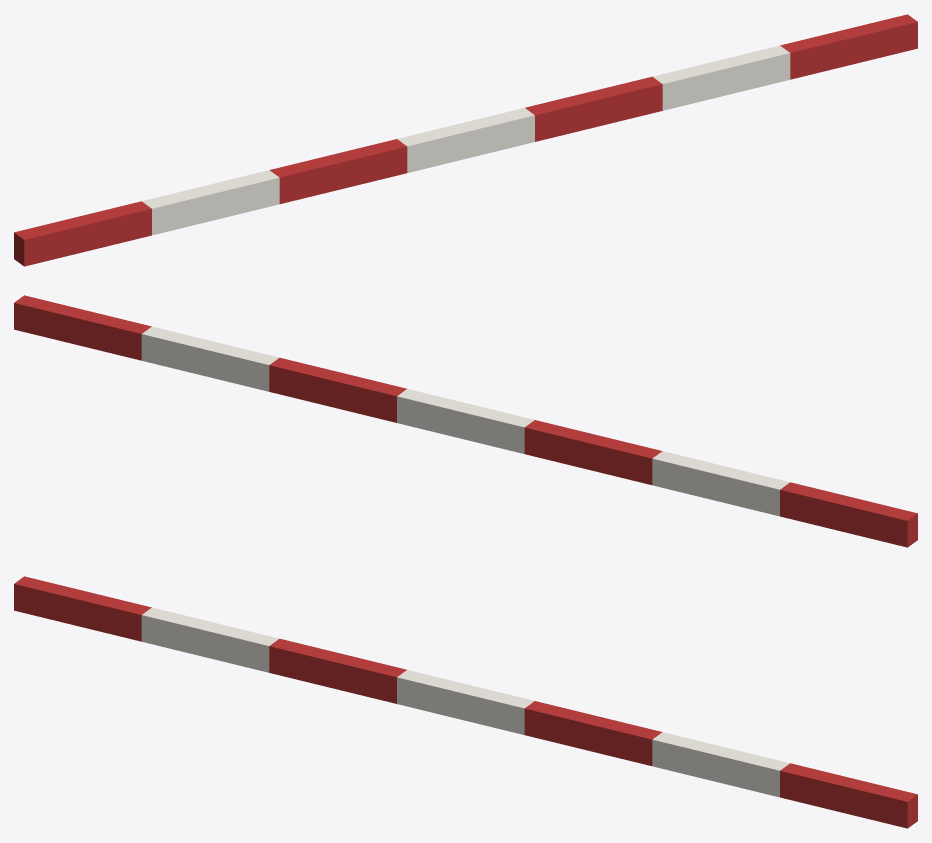
Rendered from barrier_arm.glb.
The picture shows the model from 3 angles, top to bottom: view 1: azimuth 30°, elevation 25°; view 2: azimuth 150°, elevation 25°; view 3: azimuth 330°, elevation 25°; orthographic projection.
Visible parts, largest first — view 1: barrier_arm; view 2: barrier_arm; view 3: barrier_arm.
Boxes of the visible parts, x1,y1,x2,y2 form: barrier_arm: [14, 14, 917, 266]; barrier_arm: [14, 295, 917, 547]; barrier_arm: [14, 576, 917, 828].
Size of the model in its own units: 7 by 0.2 by 0.14.
